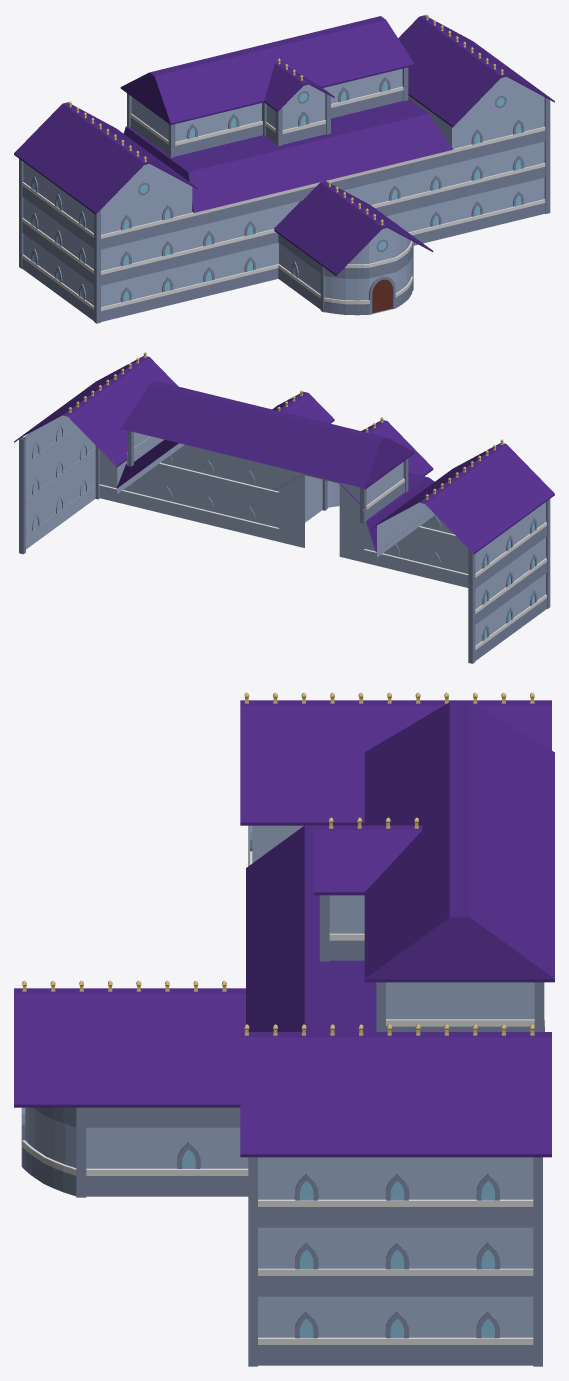
File: AcademiaExterior.fbx
3 views of the same model, one above another, from view 1: azimuth 30°, elevation 25°; view 2: azimuth 150°, elevation 25°; view 3: azimuth 270°, elevation 25° (orthographic). The views are drawn at different scales.
Parts seen in each view (by area): view 1: edificio, Plane.008, Plane, Plane.002, edificio.011, Plane.007, edificio.007, edificio.006, edificio.004, edificio.010, Plane.001, edificio.013 (+17 smaller); view 2: edificio, Plane.002, Plane.008, Plane, Cube.002, Plane.001, edificio.009, edificio.012, edificio.008, edificio.004, Plane.007, Plane.005 (+7 smaller); view 3: Plane.008, Plane.002, edificio, Plane.007, Plane, edificio.010, edificio.004, edificio.008, edificio.009, edificio.012, Plane.005, Plane.001 (+10 smaller).
Part boxes in pixels (x1=…): edificio: x1=23, y1=76, x2=544, y2=307; Plane.008: x1=14, y1=15, x2=554, y2=214; Plane: x1=123, y1=99, x2=453, y2=212; Plane.002: x1=120, y1=16, x2=414, y2=124; edificio.011: x1=101, y1=126, x2=545, y2=249; Plane.007: x1=274, y1=181, x2=433, y2=275; edificio.007: x1=101, y1=163, x2=545, y2=285; edificio.006: x1=101, y1=199, x2=545, y2=321; edificio.004: x1=279, y1=228, x2=411, y2=300; edificio.010: x1=278, y1=234, x2=412, y2=315; Plane.001: x1=131, y1=68, x2=402, y2=141; edificio.013: x1=175, y1=86, x2=403, y2=156; edificio: x1=22, y1=415, x2=545, y2=645; Plane.002: x1=120, y1=381, x2=414, y2=489; Plane.008: x1=14, y1=356, x2=554, y2=554; Plane: x1=116, y1=439, x2=434, y2=552; Cube.002: x1=19, y1=437, x2=475, y2=663; Plane.001: x1=134, y1=432, x2=403, y2=504; edificio.009: x1=46, y1=450, x2=546, y2=624; edificio.012: x1=28, y1=427, x2=546, y2=588; edificio.008: x1=33, y1=489, x2=546, y2=660; edificio.004: x1=305, y1=475, x2=339, y2=522; Plane.007: x1=272, y1=420, x2=433, y2=504; Plane.005: x1=272, y1=391, x2=334, y2=423; Plane.008: x1=240, y1=700, x2=551, y2=1157; Plane.002: x1=364, y1=702, x2=554, y2=982; edificio: x1=252, y1=825, x2=533, y2=1337; Plane.007: x1=14, y1=988, x2=245, y2=1107; Plane: x1=246, y1=825, x2=376, y2=1031; edificio.010: x1=22, y1=1107, x2=248, y2=1196; edificio.004: x1=25, y1=1107, x2=248, y2=1168; edificio.008: x1=258, y1=1337, x2=533, y2=1365; edificio.009: x1=258, y1=1268, x2=533, y2=1296; edificio.012: x1=258, y1=1199, x2=533, y2=1227; Plane.005: x1=313, y1=825, x2=422, y2=895; Plane.001: x1=386, y1=982, x2=534, y2=1019.
Bounding box in the file's own units: 5304 × 2005 × 2841.
